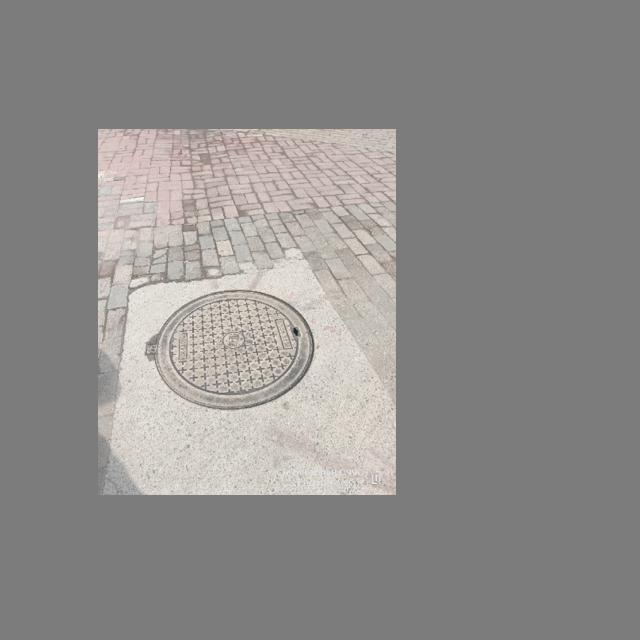good: (146, 289, 314, 409)
